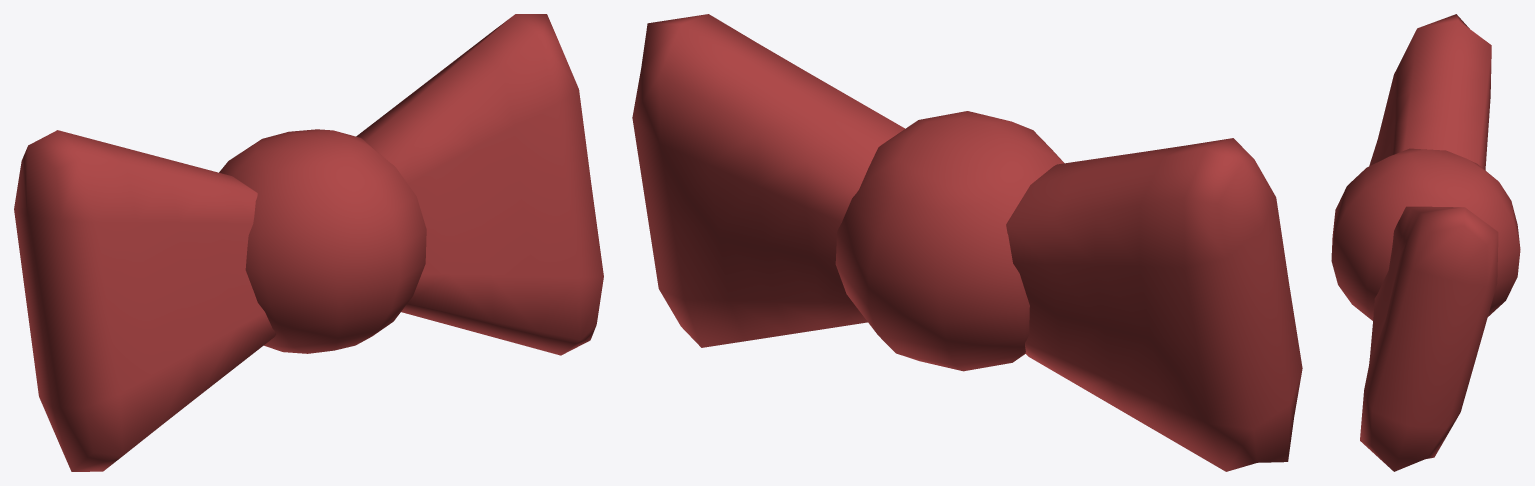
File: skeleton_bow_v001.fbx
The picture shows the model from 3 angles, left to right: view 1: azimuth 30°, elevation 25°; view 2: azimuth 150°, elevation 25°; view 3: azimuth 270°, elevation 25°; orthographic projection. The views are drawn at different scales.
Parts seen in each view (by area): view 1: skeleton_bow; view 2: skeleton_bow; view 3: skeleton_bow.
Boxes of the visible parts, bbox=[...] form: skeleton_bow: bbox=[14, 14, 603, 471]; skeleton_bow: bbox=[632, 14, 1302, 471]; skeleton_bow: bbox=[1331, 14, 1520, 471].
Bounding box in the file's own units: 13.64 × 7.42 × 4.94.
